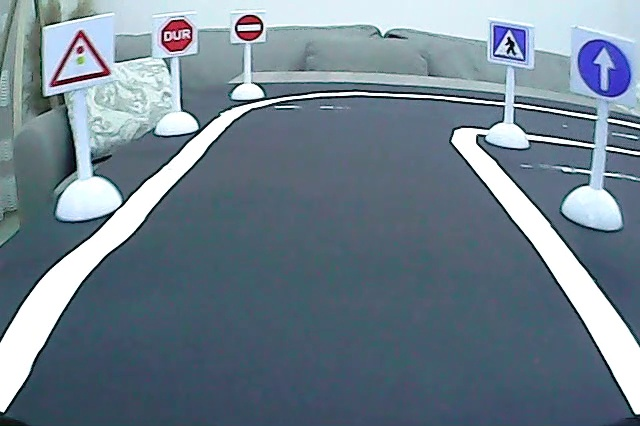do not enter: (233, 13, 267, 43)
pedestrian crossing: (489, 22, 531, 66)
red light: (48, 24, 114, 88)
stop sign: (158, 16, 195, 58)
